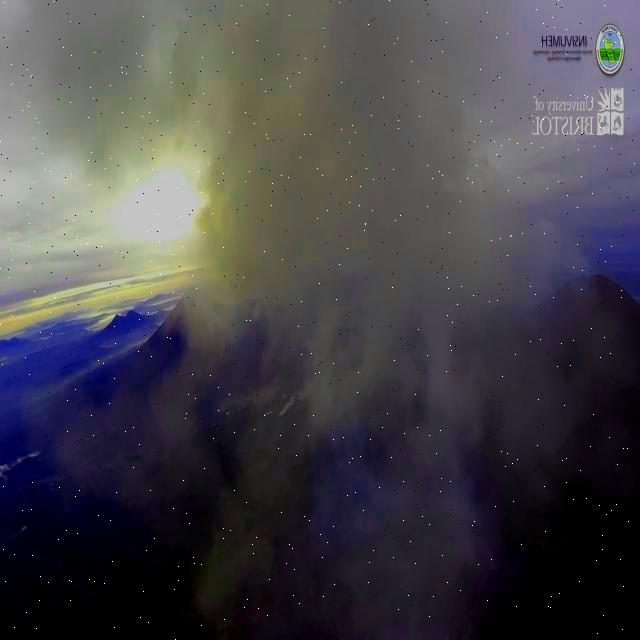Plume: (42, 0, 574, 575)
